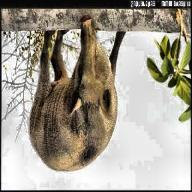boar: (11, 1, 116, 184)
